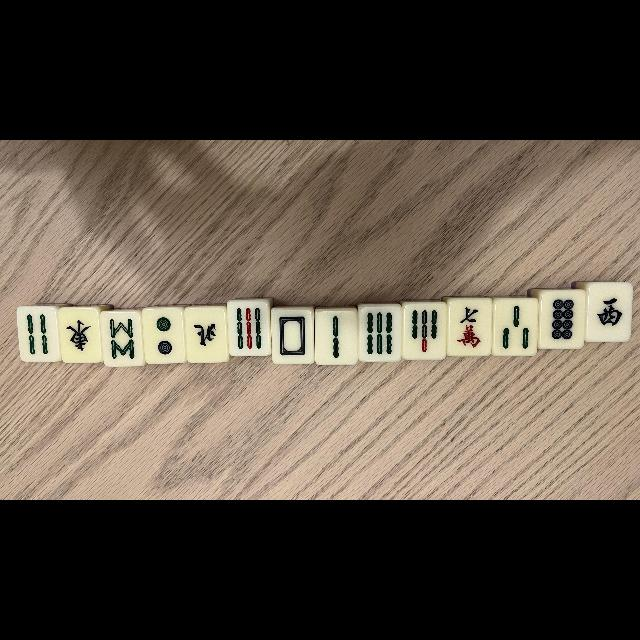b2: (316, 312, 356, 364)
b3: (495, 300, 535, 354)
b4: (18, 308, 58, 360)
b6: (360, 306, 400, 360)
b7: (404, 303, 446, 359)
b8: (101, 312, 142, 366)
b9: (228, 302, 270, 356)
c7: (450, 301, 490, 355)
d2: (144, 310, 184, 362)
d8: (542, 290, 582, 348)
dw: (272, 309, 314, 363)
we: (60, 308, 102, 362)
wn: (188, 308, 226, 362)
ww: (589, 284, 629, 340)
